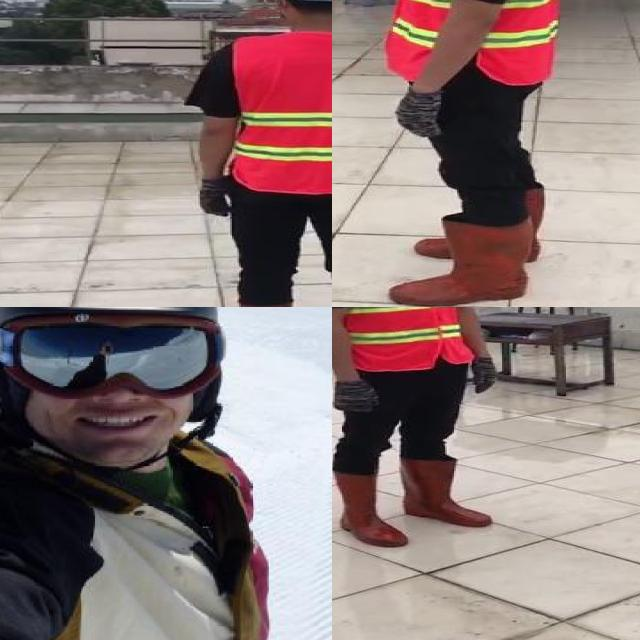boots: (386, 217, 532, 306), (399, 454, 497, 532), (332, 469, 410, 554)
face_nomask: (12, 316, 204, 448)
glasses: (0, 313, 235, 402)
hand_glove: (375, 92, 448, 138), (332, 378, 378, 416), (463, 360, 511, 396), (198, 177, 230, 218)
head_nohelmet: (0, 307, 225, 348)
person: (0, 307, 270, 640), (364, 0, 572, 307), (183, 0, 332, 307), (332, 307, 491, 546)
vest: (384, 0, 563, 91), (231, 31, 332, 192), (332, 307, 475, 372)
